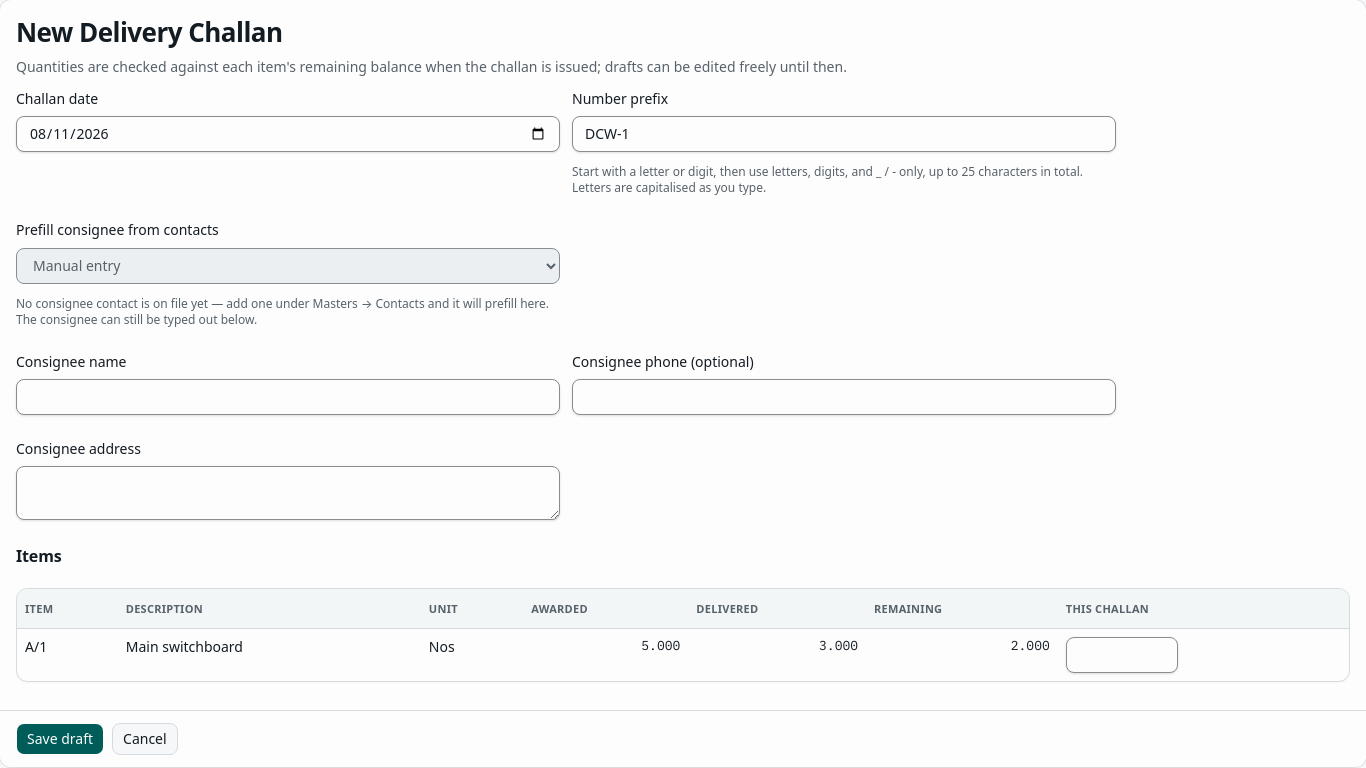
Test case: ChallanEditor › refuses to save an empty challan
The image size is (1366, 768).
Expected: the text "2.000" is shown, [866, 629, 1058, 681]
In the field labelled "Consignee name": (288, 397) [16, 379, 560, 415], type "Sr. DEE (G)"
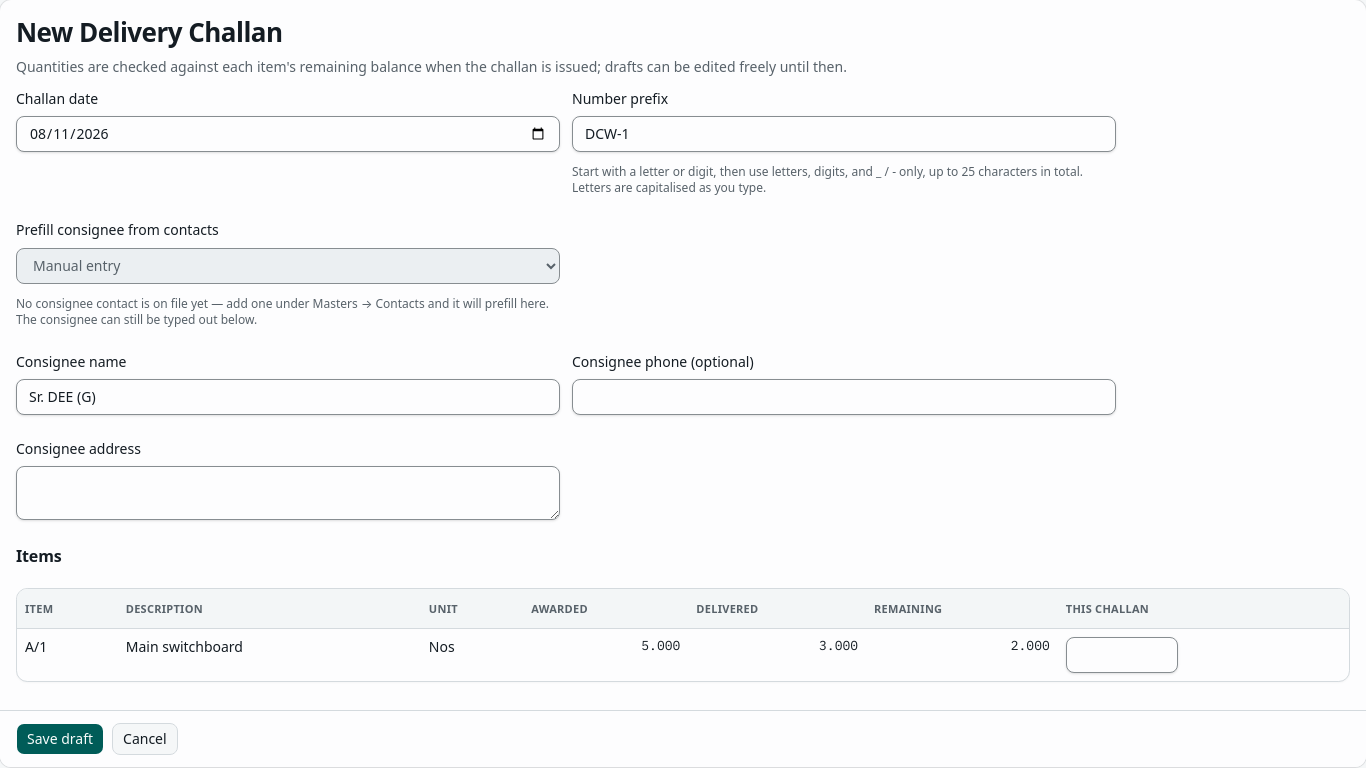
In the text box labelled "Consignee address": (288, 493) [16, 466, 560, 520], type "Delhi Division"
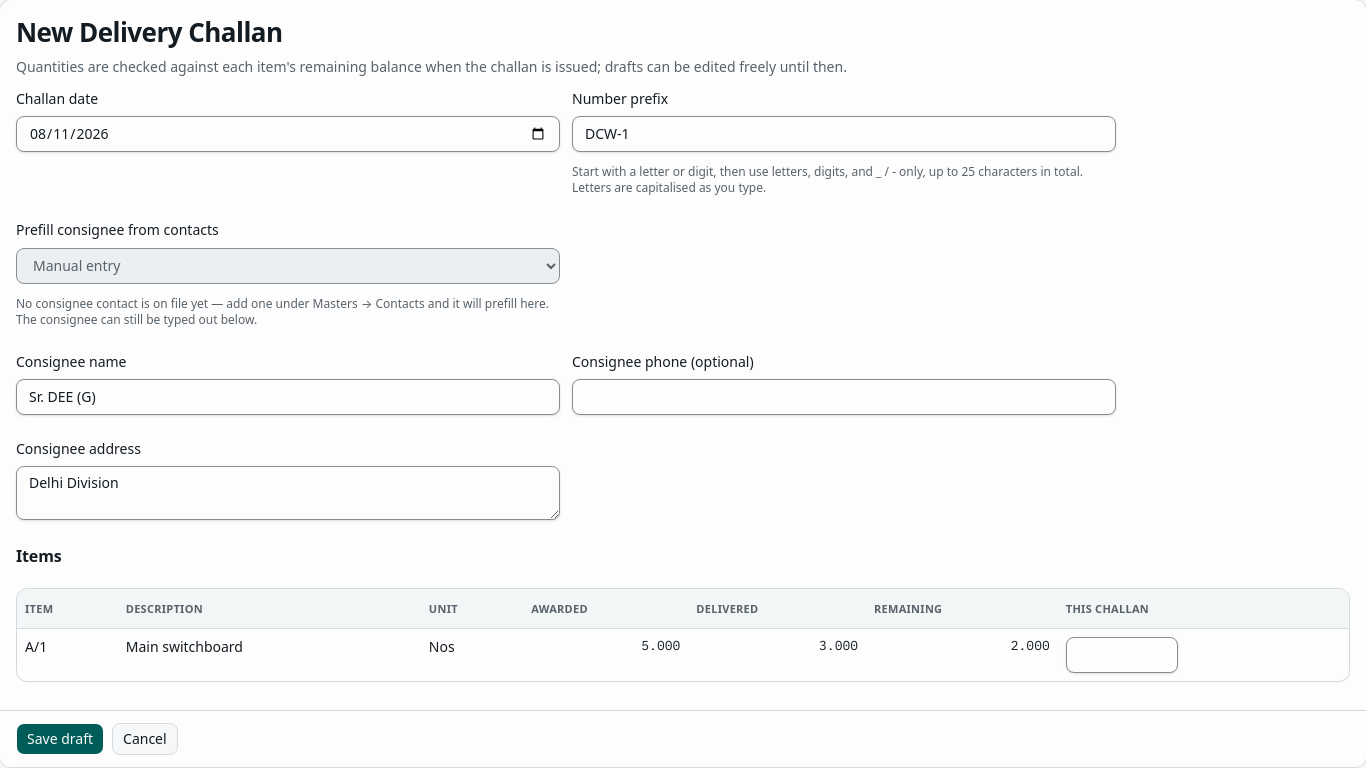
Click the button "Save draft": (60, 739) [16, 723, 104, 755]
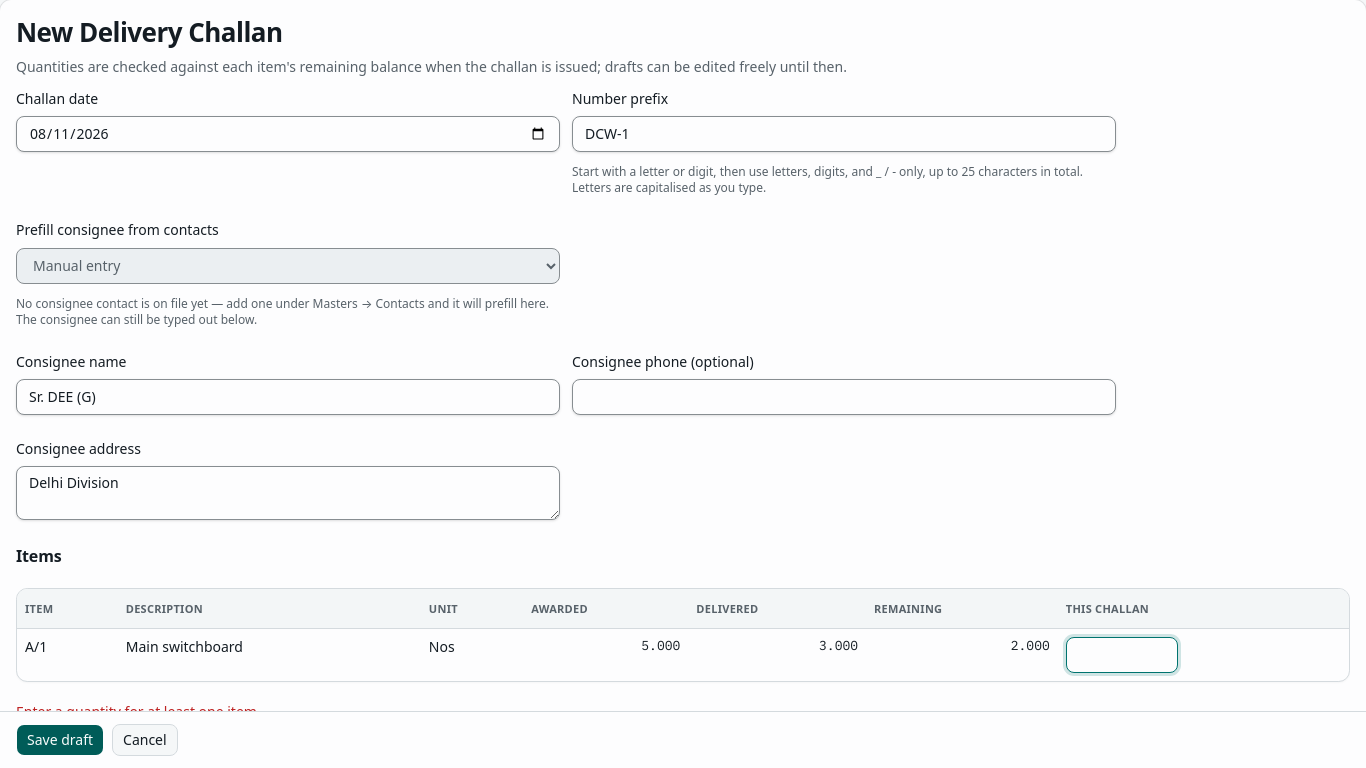
Expected: the message shows "at least one item", [16, 702, 261, 721]
